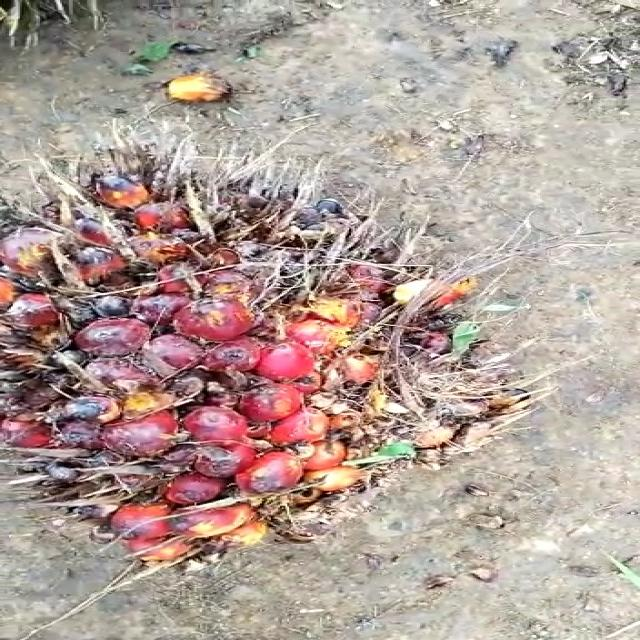palm oil: (0, 150, 536, 580)
